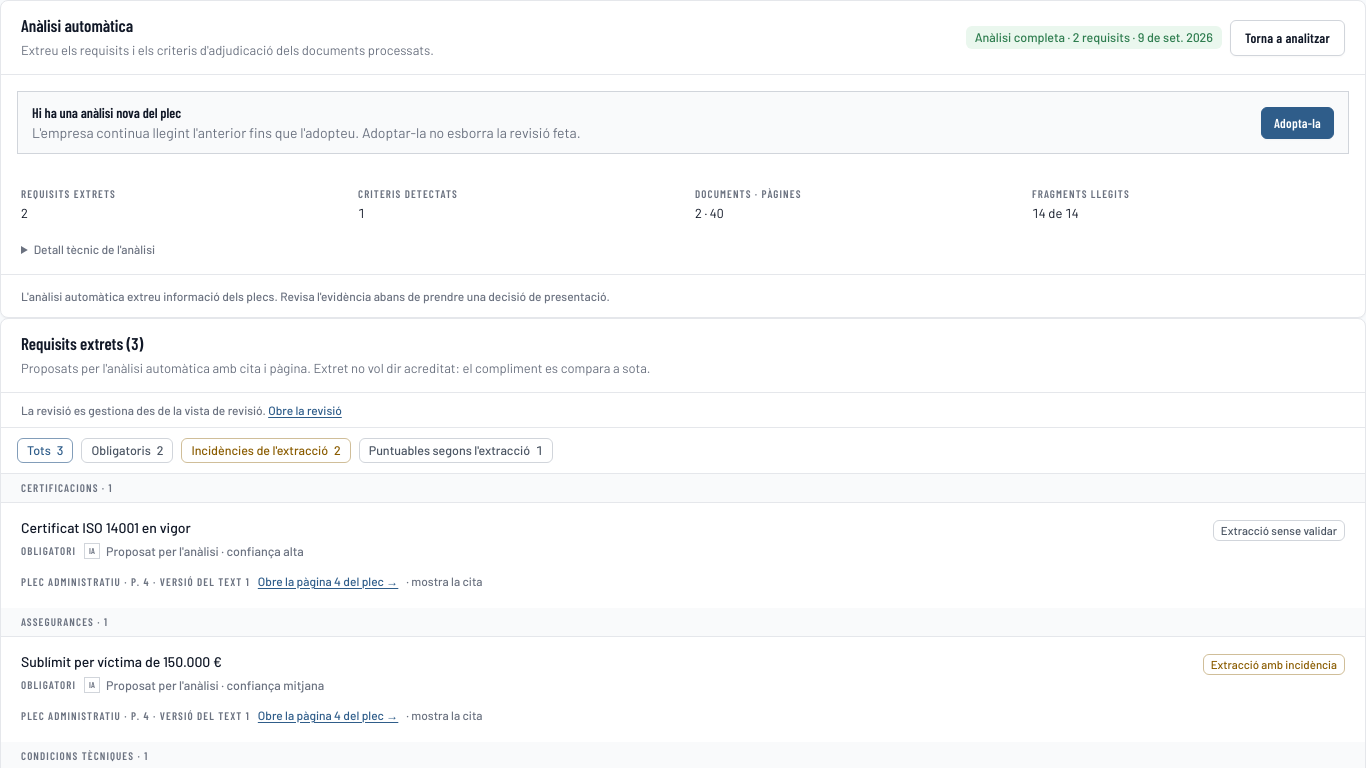
Test: RequirementAnalysisSection · 3B-2 (quota canònica, adopció, buits i simulacions) › hi ha una anàlisi nova del plec: «Adopta-la» mou el punter de l'empresa activa
Expected: the text "Hi ha una anàlisi nova del plec" is shown, [32,104,181,121]
Click the button "Adopta-la" at point(1298, 123), box [1261,107,1334,139]
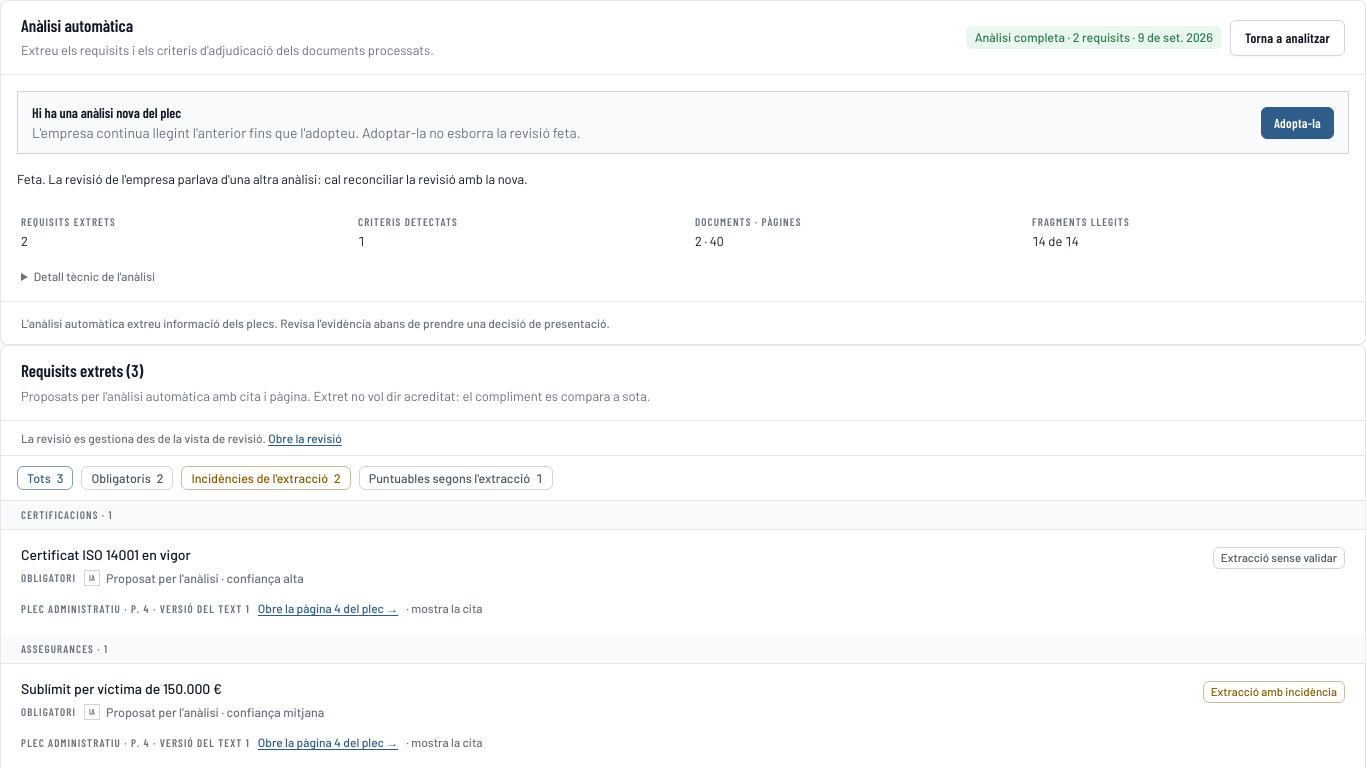
Expected: the text "cal reconciliar la revisió" is shown, [17,171,528,187]
